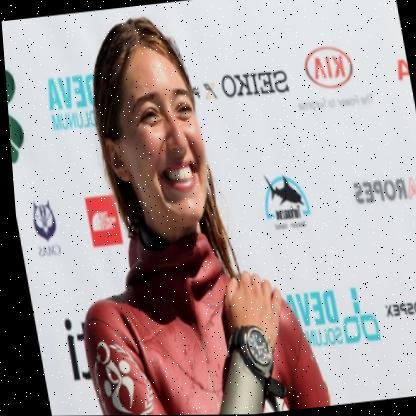person: (79, 9, 223, 245)
